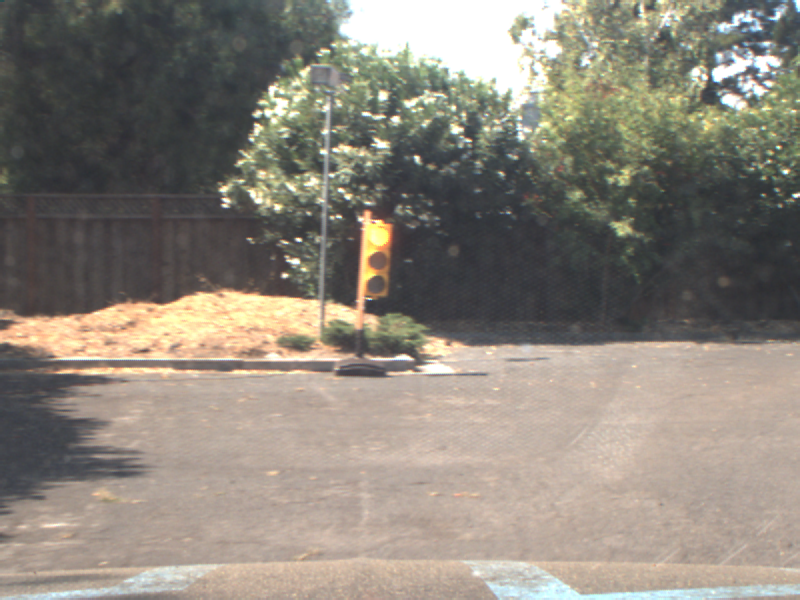red: (356, 212, 390, 299)
